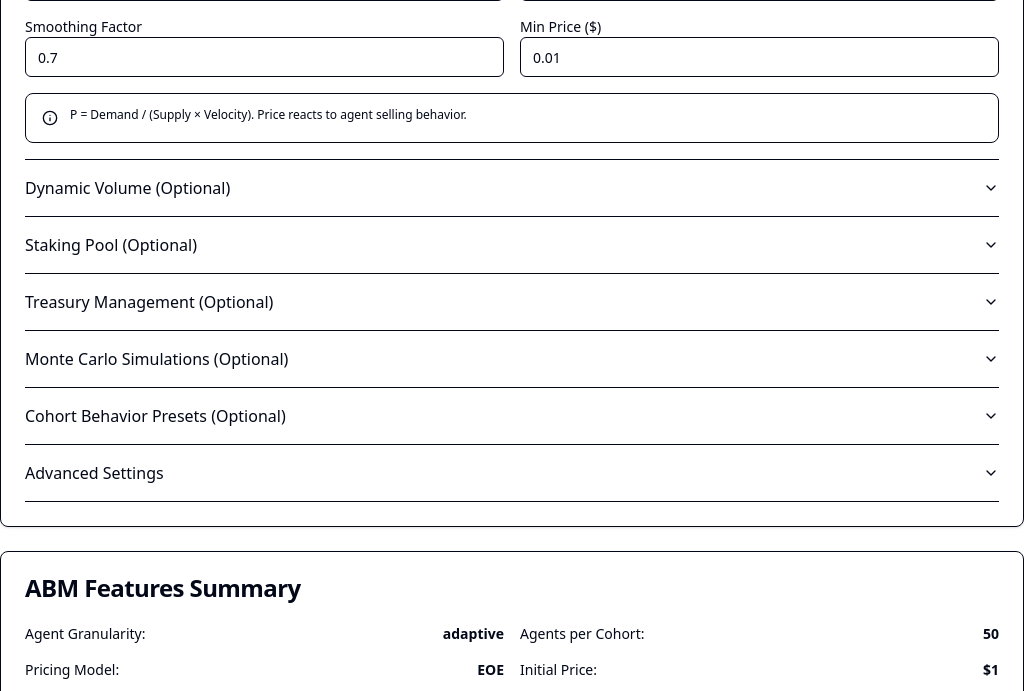
Test: ABM Configuration Form - User Interactions › Monte Carlo Configuration › enables Monte Carlo and shows MC fields
(page scrolled)
Note: Click Monte Carlo accordion to expand it
Click the button "Monte Carlo Simulations (Optional)" at [157, 359], box [25, 331, 999, 387]
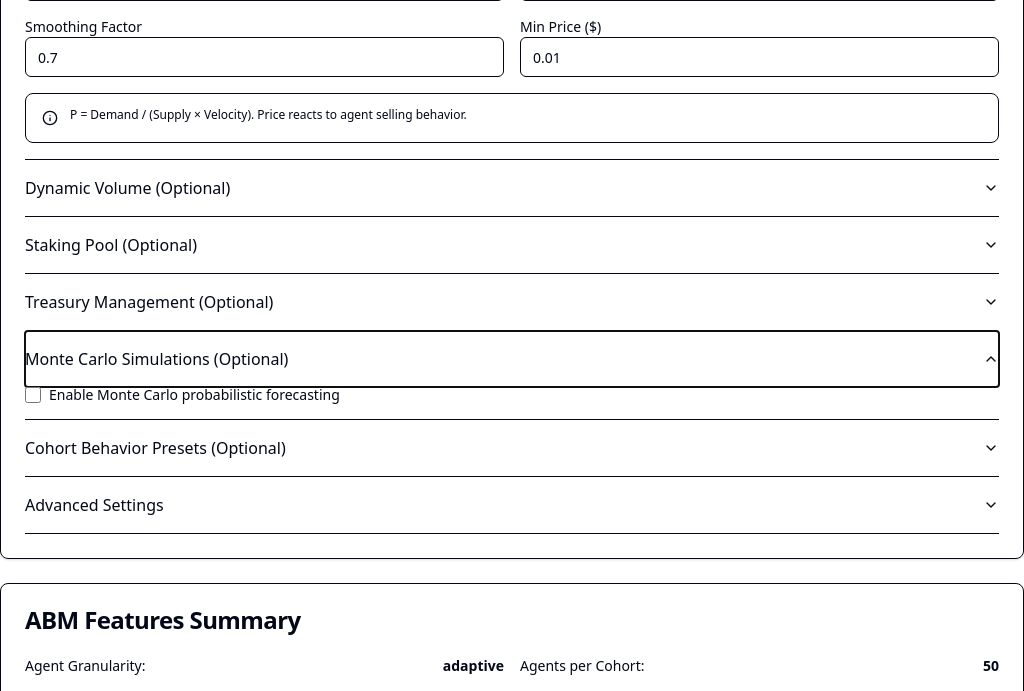
Click the checkbox labelled "Enable Monte Carlo probabilistic forecasting" at [33, 395], box [25, 387, 41, 403]
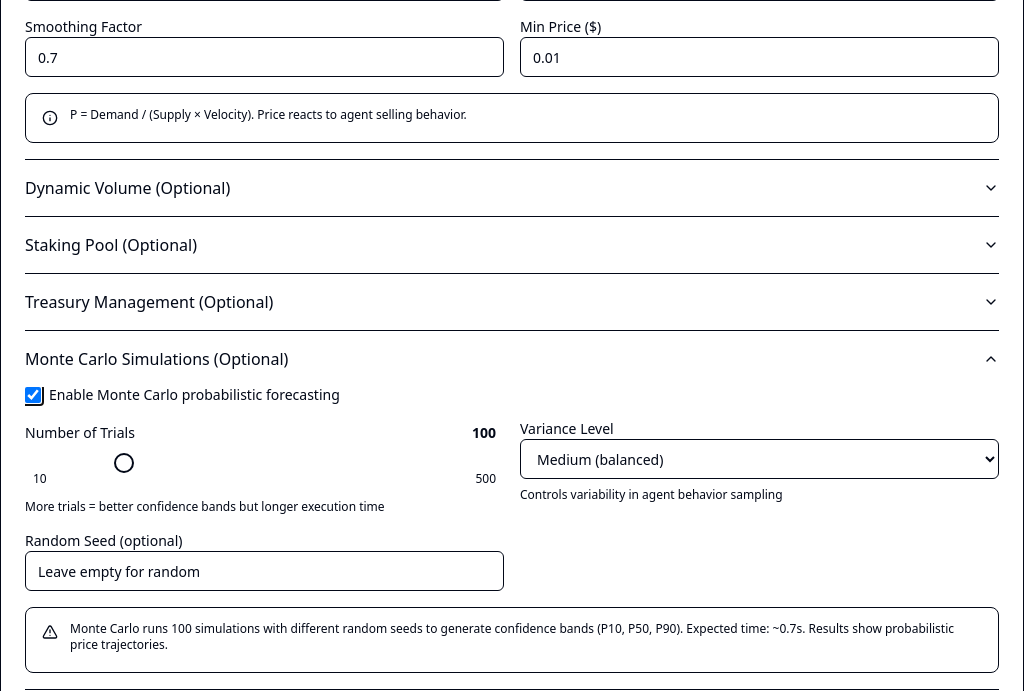
expect the element named "Number of Trials" is shown: met, box [114, 453, 134, 473]
expect the dropdown labelled "Variance Level" is shown: met, box [520, 439, 999, 479]
